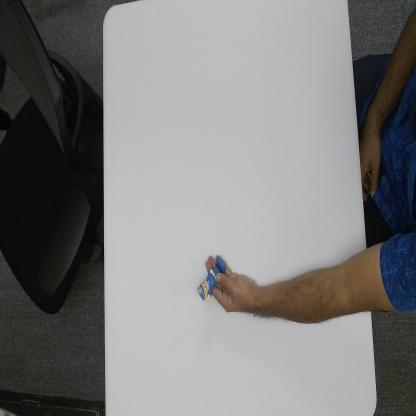Arm: (256, 244, 372, 327)
Hand: (206, 255, 254, 319)
